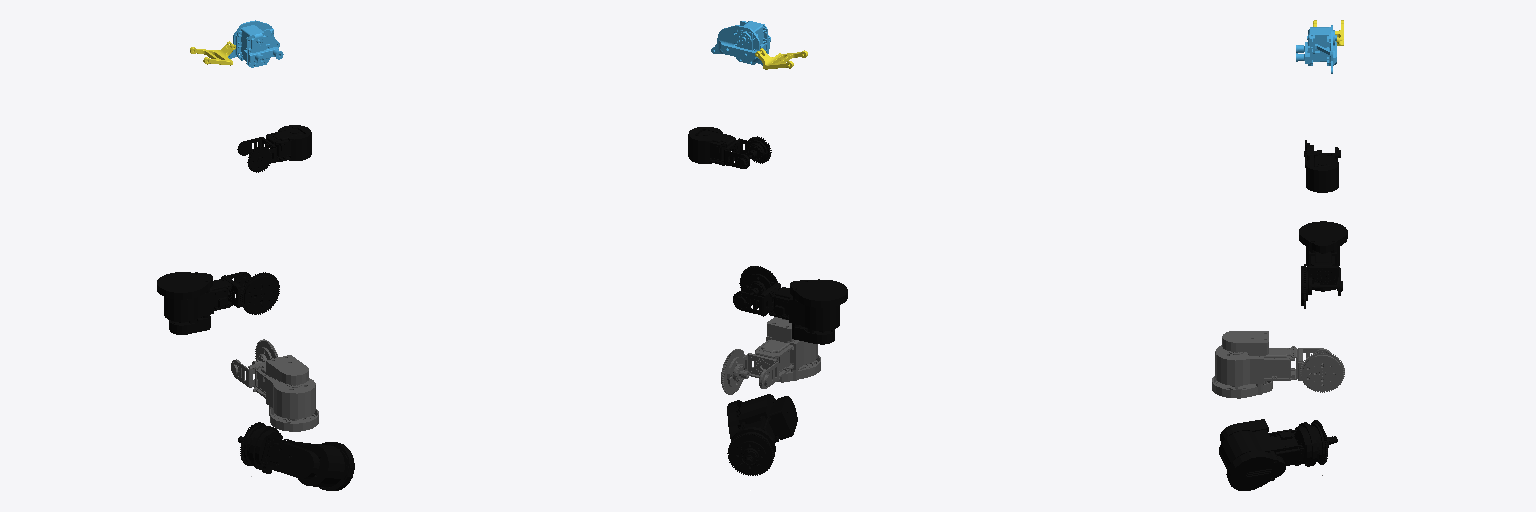
URDF robot description (cyton_gamma_1500):
<?xml version="1.0" ?>
<!-- =================================================================================== -->
<!-- |    This document was autogenerated by xacro from [local-path]/ros_ws/src/cyton_gamma_1500_description/cyton_gamma_1500.urdf.xacro | -->
<!-- |    EDITING THIS FILE BY HAND IS NOT RECOMMENDED                                 | -->
<!-- =================================================================================== -->
<robot name="cyton_gamma_1500" xmlns:xacro="http://www.ros.org/wiki/xacro">
  <gazebo>
    <plugin filename="libgazebo_ros_joint_state_publisher.so" name="joint_state_publisher">
      <jointName>joint0, joint1, joint2, joint3, joint4, joint5, joint6, gripper_joint, gripper_joint2</jointName>
    </plugin>
  </gazebo>
  <link name="base_footprint">
    <visual>
      <origin rpy="0 0 0" xyz="0 0 0"/>
      <geometry>
        <sphere radius="0.001"/>
      </geometry>
      <material name="white">
        <color rgba="1 1 1 1"/>
      </material>
    </visual>
  </link>
  <joint name="base_joint" type="fixed">
    <parent link="base_footprint"/>
    <child link="base_link"/>
    <origin rpy="0 0 0" xyz="0.0 0.0 0.0"/>
  </joint>
  <link name="base_link">
    <visual>
      <origin rpy="0 0 0" xyz="0 0 0"/>
      <geometry>
        <mesh filename="package://cyton_gamma_1500_description/meshes/base.dae"/>
      </geometry>
    </visual>
    <collision>
      <origin xyz="0 0.0115 0.047"/>
      <geometry>
        <box size="0.154 0.177 0.094"/>
      </geometry>
    </collision>
    <inertial>
      <mass value="100.0"/>
      <origin rpy="0 0 0" xyz="0 0 0"/>
      <inertia ixx="1.1027" ixy="0" ixz="0" iyy="1.1027" iyz="0" izz="1.1027"/>
    </inertial>
  </link>
  <joint name="joint0" type="revolute">
    <parent link="base_link"/>
    <child link="shoulder_roll"/>
    <origin rpy="0 0 0" xyz="0 0 0.05315"/>
    <limit effort="100.0" lower="-2.618" upper="2.618" velocity="1.0"/>
    <axis xyz="0 0 1"/>
  </joint>
  <link name="shoulder_roll">
    <visual>
      <origin rpy="1.5708 0 0.384" xyz="0 0 0"/>
      <geometry>
        <mesh filename="package://cyton_gamma_1500_description/meshes/shoulder_roll.dae"/>
      </geometry>
    </visual>
    <collision>
      <origin rpy="1.5708 0 0" xyz="0 0 0.0587"/>
      <geometry>
        <box size="0.09829 0.18143 0.08392"/>
      </geometry>
    </collision>
    <inertial>
      <mass value="50.0"/>
      <origin rpy="0 0 0" xyz="0 0 0"/>
      <inertia ixx=".1027" ixy="0" ixz="0" iyy=".1027" iyz="0" izz=".1027"/>
    </inertial>
  </link>
  <joint name="joint1" type="revolute">
    <parent link="shoulder_roll"/>
    <child link="shoulder_pitch"/>
    <origin rpy="0 0 0" xyz="0.0205 0 0.12435"/>
    <limit effort="100.0" lower="-1.8326" upper="1.8326" velocity="1.0"/>
    <axis xyz="1 0 0"/>
  </joint>
  <link name="shoulder_pitch">
    <visual>
      <origin rpy="1.5708 0 0" xyz="0 0 0"/>
      <geometry>
        <mesh filename="package://cyton_gamma_1500_description/meshes/shoulder_pitch.dae"/>
      </geometry>
    </visual>
    <collision>
      <origin rpy="1.5708 0 0" xyz="-0.02 -0.001 0.064"/>
      <geometry>
        <box size="0.0709 0.19363 0.083"/>
      </geometry>
    </collision>
    <inertial>
      <mass value="20.0"/>
      <origin rpy="0 0 0" xyz="0 0 0"/>
      <inertia ixx=".0827" ixy="0" ixz="0" iyy=".0827" iyz="0" izz=".0827"/>
    </inertial>
  </link>
  <joint name="joint2" type="revolute">
    <parent link="shoulder_pitch"/>
    <child link="shoulder_yaw"/>
    <origin rpy="0 0 0" xyz="-0.0215 -0.0205 0.1255"/>
    <limit effort="100.0" lower="-1.8326" upper="1.8326" velocity="1.0"/>
    <axis xyz="0 -1 0"/>
  </joint>
  <link name="shoulder_yaw">
    <visual>
      <origin rpy="1.5708 0 -1.5708" xyz="0 0 0.0"/>
      <geometry>
        <mesh filename="package://cyton_gamma_1500_description/meshes/shoulder_yaw.dae"/>
      </geometry>
    </visual>
    <collision>
      <origin rpy="1.5708 0 -1.5708" xyz="-0.003 0.0225 0.057"/>
      <geometry>
        <box size="0.0717 0.1846 0.0756"/>
      </geometry>
    </collision>
    <inertial>
      <mass value="10.0"/>
      <origin rpy="0 0 0" xyz="0 0 0"/>
      <inertia ixx=".0627" ixy="0" ixz="0" iyy=".0627" iyz="0" izz=".0627"/>
    </inertial>
  </link>
  <joint name="joint3" type="revolute">
    <parent link="shoulder_yaw"/>
    <child link="elbow_pitch"/>
    <origin rpy="0 0 0" xyz="0.018 0.0206 0.1158"/>
    <limit effort="100.0" lower="-1.8326" upper="1.8326" velocity="1.0"/>
    <axis xyz="1 0 0"/>
  </joint>
  <link name="elbow_pitch">
    <visual>
      <origin rpy="1.5708 0 3.1416" xyz="0 0 0"/>
      <geometry>
        <mesh filename="package://cyton_gamma_1500_description/meshes/elbow_pitch.dae"/>
      </geometry>
    </visual>
    <collision>
      <origin rpy="1.5708 0 3.1416" xyz="-0.017 0.004 0.0461"/>
      <geometry>
        <box size="0.0549 0.1557 0.076"/>
      </geometry>
    </collision>
    <inertial>
      <mass value="10.0"/>
      <origin rpy="0 0 0" xyz="0 0 0"/>
      <inertia ixx=".0327" ixy="0" ixz="0" iyy=".0327" iyz="0" izz=".0327"/>
    </inertial>
  </link>
  <joint name="joint4" type="revolute">
    <parent link="elbow_pitch"/>
    <child link="elbow_yaw"/>
    <origin rpy="0 0 0" xyz="-0.0171 -0.018 0.09746"/>
    <limit effort="100.0" lower="-1.8326" upper="1.8326" velocity="1.0"/>
    <axis xyz="0 -1 0"/>
  </joint>
  <link name="elbow_yaw">
    <visual>
      <origin rpy="1.5708 0 1.5708" xyz="0 0 0"/>
      <geometry>
        <mesh filename="package://cyton_gamma_1500_description/meshes/elbow_yaw.dae"/>
      </geometry>
    </visual>
    <collision>
      <origin rpy="1.5708 0 1.5708" xyz="0 0.0172 0.047"/>
      <geometry>
        <box size="0.0535 0.1160 0.053"/>
      </geometry>
    </collision>
    <inertial>
      <mass value="10.0"/>
      <origin rpy="0 0 0" xyz="0 0 0"/>
      <inertia ixx=".0227" ixy="0" ixz="0" iyy=".0227" iyz="0" izz=".0227"/>
    </inertial>
  </link>
  <joint name="joint5" type="revolute">
    <parent link="elbow_yaw"/>
    <child link="wrist_pitch"/>
    <origin rpy="0 0 0" xyz="0.02626 0.018 0.0718"/>
    <limit effort="100.0" lower="-1.8326" upper="1.8326" velocity="1.0"/>
    <axis xyz="-1 0 0"/>
  </joint>
  <link name="wrist_pitch">
    <visual>
      <origin rpy="1.5708 0 1.5708" xyz="0 0 0"/>
      <geometry>
        <mesh filename="package://cyton_gamma_1500_description/meshes/wrist_pitch.dae"/>
      </geometry>
    </visual>
    <collision>
      <origin rpy="1.5708 0 1.5708" xyz="-0.013 0 0.05"/>
      <geometry>
        <box size="0.035 0.0435 0.05185"/>
      </geometry>
    </collision>
    <inertial>
      <mass value="10.0"/>
      <origin rpy="0 0 0" xyz="0 0 0"/>
      <inertia ixx=".0127" ixy="0" ixz="0" iyy=".0127" iyz="0" izz=".0127"/>
    </inertial>
  </link>


  <joint name="joint6" type="revolute">
    <parent link="wrist_pitch"/>
    <child link="Wrist"/>
    <origin rpy="0 3.14 0" xyz="-0.026255 0.0 0.115"/>
    <limit effort="100.0" lower="-2.61799" upper="2.61799" velocity="1.0"/>
    <axis xyz="0 0 1"/>
  </joint>




<link name="Wrist">
    <visual>
      <origin rpy="0.0 0 -1.57" xyz=" -0.013 0.015 0.0359"/>
      <geometry>
        <mesh filename="package://urfd_tutorials/urdf/meshes/wrist.dae"/>
      </geometry>
    </visual>
  </link>



  <link name="Motor_+_Base">
    <visual>
      <origin rpy="0.0 0 0" xyz=" 0 -0.045 0"/>
      <geometry>
        <mesh filename="package://urfd_tutorials/urdf/meshes/Motor_+_Base.dae"/>
      </geometry>
    </visual>
  </link>


  <joint name="wrist_to_motor_+_base" type="fixed">
 
    <parent link="Wrist"/>
    <child link="Motor_+_Base"/>
    <origin xyz="0 0.022 0"/>
  </joint>




  <link name="right_link_front">
    <visual>
      <origin rpy="0 -0.6 0" xyz="0 0 0"/>
      <geometry>
        <mesh filename="package://urfd_tutorials/urdf/meshes/right_link_front.dae"/>
      </geometry>
    </visual>
  </link>


  <joint name="joint7" type="revolute">
    <axis xyz="0 1 0"/>
    <limit effort="1000.0" lower="0.0" upper="1.68" velocity="0.5"/>
    <parent link="Motor_+_Base"/>
    <child link="right_link_front"/>
    <origin xyz="0 0 0"/>
  </joint>


  <link name="right_link_back">
    <visual>
      <origin rpy="0.0 0 0" xyz="0 0 0"/>
      <geometry>
        <mesh filename="package://urfd_tutorials/urdf/meshes/right_link_back.dae"/>
      </geometry>
    </visual>
  </link>


  <joint name="motor_base_to_right_link_back" type="revolute">
    <axis xyz="0 1 0"/>
    <limit effort="1000.0" lower="0.0" upper="1.68" velocity="0.5"/>
    <parent link="Motor_+_Base"/>
    <child link="right_link_back"/>
    <origin xyz="0.025 -0.0085 0.015"/>
    <mimic joint="joint7" multiplier="1" offset="0"/> 
  </joint>


  <link name="left_link_front">
    <visual>
      <origin rpy="0 3.142 0" xyz="0 0 0"/>
      <geometry>
        <mesh filename="package://urfd_tutorials/urdf/meshes/left_front_link.dae"/>
      </geometry>
    </visual>
  </link>


  <joint name="motor_base_to_left_link_front" type="revolute">
    <axis xyz="0 1 0"/>
    <limit effort="1000.0" lower="0.0" upper="1.68" velocity="0.5"/>
    <parent link="Motor_+_Base"/>
    <mimic joint="joint7" multiplier="-1" offset="0"/> 
    <child link="left_link_front"/>
    <origin xyz="-0.022 -0.001 0"/>
  </joint>


  <link name="left_link_back">
    <visual>
      <origin rpy="0 3.14 0" xyz="0 0 0"/>
      <geometry>
        <mesh filename="package://urfd_tutorials/urdf/meshes/left_link_back.dae"/>
      </geometry>
    </visual>
  </link>


  <joint name="motor_base_to_left_link_back" type="revolute">
    <axis xyz="0 1 0"/>
    <limit effort="1000.0" lower="0.0" upper="1.68" velocity="0.5"/>
    <parent link="Motor_+_Base"/>
    <child link="left_link_back"/>
    <origin xyz="-0.0469 -0.014 0.0155"/>
    <mimic joint="motor_base_to_left_link_front" multiplier="1" offset="0"/> 
  </joint>



  <link name="one_finger">
    <visual>
      <origin rpy="0 0.003 0" xyz="0 0 0"/>
      <geometry>
        <mesh filename="package://urfd_tutorials/urdf/meshes/one_finger.dae"/>
      </geometry>
    </visual>
  </link>


  <joint name="left_link_back_to_one_finger" type="revolute">
    <axis xyz="0 1 0"/>
    <limit effort="1000.0" lower="0.0" upper="1.68" velocity="0.5"/>
    <parent link="left_link_back"/>
    <child link="one_finger"/>
    <origin xyz="-0.06 0.008 0.0"/>
    <mimic joint="motor_base_to_left_link_front" multiplier="-1" offset="0"/> 
    
  </joint>


  <link name="two_fingers">
    <visual>
      <origin rpy="0 0.24 0" xyz="0 0 0"/>
      <geometry>
        <mesh filename="package://urfd_tutorials/urdf/meshes/two_fingers.dae"/>
      </geometry>
    </visual>
  </link>


  <joint name="right_link_back_to_two_fingers" type="revolute">
    <axis xyz="0 1 0"/>
    <limit effort="1000.0" lower="0.0" upper="1.68" velocity="0.5"/>
    <parent link="right_link_back"/>
    <child link="two_fingers"/>
    <origin xyz="0.06 -0.02 0.0"/>
    <mimic joint="joint7" multiplier="-1" offset="0"/> 
    
  </joint>






</robot>

--- What the picture shows (computed from the rendered views, not written in the file) ---
The picture shows the robot from 3 angles, left to right: view 1: azimuth 30°, elevation 25°; view 2: azimuth 150°, elevation 25°; view 3: azimuth 270°, elevation 25°; orthographic projection.
Model cyton_gamma_1500 with 16 links and 15 joints (13 revolute, 2 fixed), rooted at base_footprint, posed all joints at 0.
Links seen in each view (by area): view 1: shoulder_yaw, shoulder_roll, shoulder_pitch, elbow_yaw, Motor_+_Base, right_link_back; view 2: shoulder_yaw, shoulder_roll, shoulder_pitch, elbow_yaw, Motor_+_Base, right_link_back; view 3: shoulder_pitch, shoulder_roll, shoulder_yaw, elbow_yaw, Motor_+_Base.
Link boxes in pixels (x1,y1,x2,y2): shoulder_yaw: (157,272,279,334); shoulder_roll: (238,422,354,490); shoulder_pitch: (231,339,318,431); elbow_yaw: (237,125,311,172); Motor_+_Base: (228,20,283,67); right_link_back: (190,41,235,65); shoulder_yaw: (733,266,847,344); shoulder_roll: (727,394,797,475); shoulder_pitch: (721,317,820,394); elbow_yaw: (688,127,771,168); Motor_+_Base: (711,21,770,65); right_link_back: (755,48,807,69); shoulder_pitch: (1212,331,1344,398); shoulder_roll: (1219,419,1337,490); shoulder_yaw: (1299,221,1347,308); elbow_yaw: (1304,140,1340,192); Motor_+_Base: (1296,25,1336,73).
Bounding box of the posed robot: 0.2507 × 0.1977 × 0.7211 m (x, y, z).
Meshes: 15 distinct files referenced, 6 mesh visuals loaded (6 Collada DAE); not drawn: 9 (reference not matched to a file when rendering).